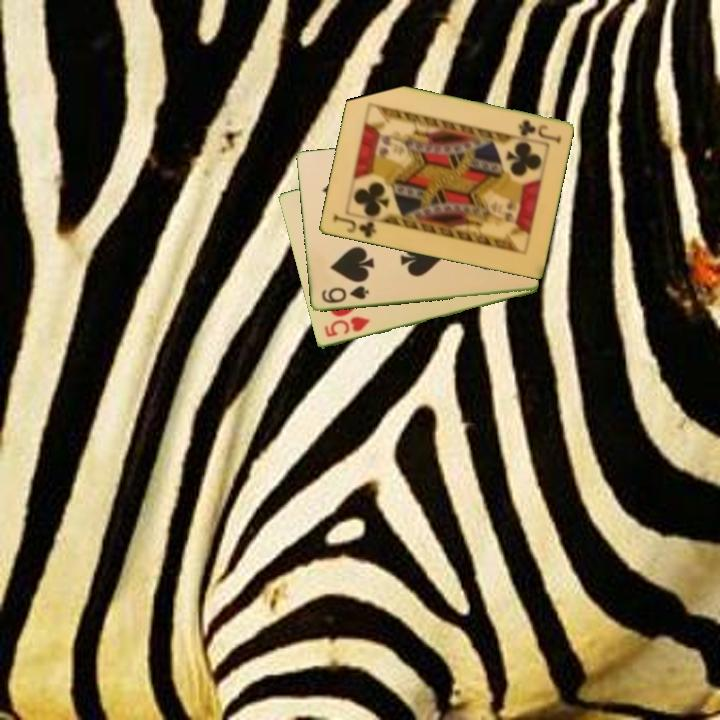5h: (321, 313, 372, 340)
6s: (318, 283, 371, 307)
Jc: (329, 211, 379, 241), (515, 117, 564, 146)
